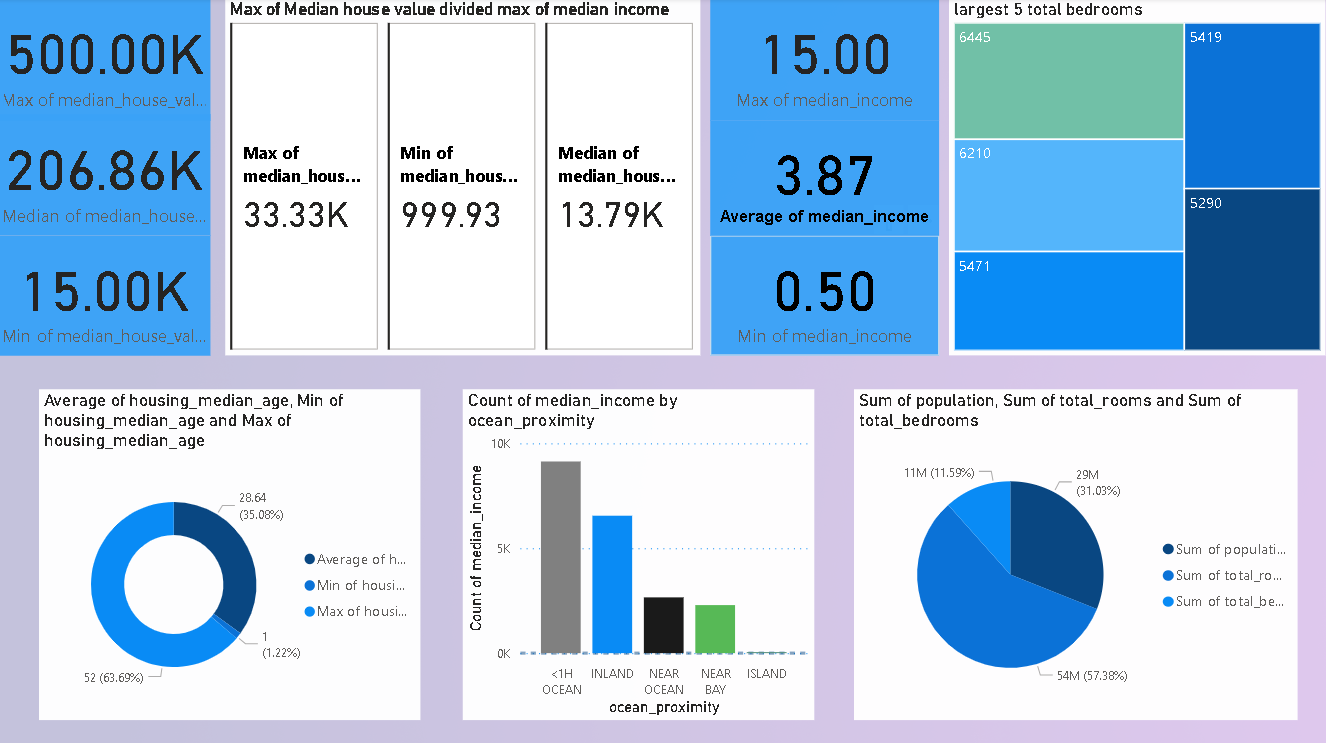

The dashboard page shown, as its layout file describes it:
{"tool":"powerbi","page":{"name":"Page 1","canvas":[1280,720],"ordinal":0},"visuals":[{"type":"columnChart","fields":{"Y":["CountNonNull(housing.median_income)"],"Category":["housing.ocean_proximity"]},"box":[447.4,377.5,338.9,319.6],"z":0},{"type":"card","fields":{"Values":["Max(house value.median_house_value)"]},"box":[0,0,203.8,118.2],"z":1000},{"type":"card","fields":{"Values":["Min(house value.median_house_value)"]},"box":[0,229.1,203.8,115.8],"z":2000},{"type":"card","fields":{"Values":["Median(house value.median_house_value)"]},"box":[0,112.2,203.8,117],"z":3000},{"type":"card","fields":{"Values":["Max(housing.median_income)"]},"box":[686.2,0,220.7,118.2],"z":4000},{"type":"card","fields":{"Values":["Min(housing.median_income)"]},"box":[686.2,229.1,220.7,115.8],"z":5000},{"type":"card","fields":{"Values":["Avg(housing.median_income)"]},"box":[686.2,118.2,220.7,111],"z":6000},{"type":"donutChart","fields":{"Y":["Avg(housing.housing_median_age)","Min(housing.housing_median_age)","Max(housing.housing_median_age)"]},"box":[38.6,377.5,367.8,319.6],"z":7000},{"type":"cardVisual","title":"Max of Median house value divided max of median income","fields":{"Data":["Max(_div house value.median_house_value)","Min(_div house value.median_house_value)1","Median(_div house value.median_house_value)2"]},"box":[218.3,0,458.3,344.9],"z":8000},{"type":"treemap","title":"largest 5 total bedrooms","fields":{"Details":["largest  total bedrooms.total_bedrooms"],"Values":["Sum(largest  total bedrooms.total_bedrooms)"]},"box":[916.6,0,363,344.9],"z":9000},{"type":"pieChart","fields":{"Y":["Sum(housing.population)","Sum(housing.total_rooms)","Sum(housing.total_bedrooms)"]},"box":[824.9,377.5,428.1,319.6],"z":10000}]}

Visuals, with their boxes in screenshot pixels (x1, y1, x2, y2), scaled from the page's 1280x720 canvas onto the 1326x743 screenshot:
columnChart - CountNonNull(housing.median_income) x housing.ocean_proximity: select_region(463, 390, 815, 719)
card - Max(house value.median_house_value): select_region(0, 0, 211, 122)
card - Min(house value.median_house_value): select_region(0, 236, 211, 356)
card - Median(house value.median_house_value): select_region(0, 116, 211, 237)
card - Max(housing.median_income): select_region(711, 0, 939, 122)
card - Min(housing.median_income): select_region(711, 236, 939, 356)
card - Avg(housing.median_income): select_region(711, 122, 939, 237)
donutChart - Avg(housing.housing_median_age) x Min(housing.housing_median_age): select_region(40, 390, 421, 719)
"Max of Median house value divided max of median income" cardVisual: select_region(226, 0, 701, 356)
"largest 5 total bedrooms" treemap: select_region(950, 0, 1325, 356)
pieChart - Sum(housing.population) x Sum(housing.total_rooms): select_region(855, 390, 1298, 719)
